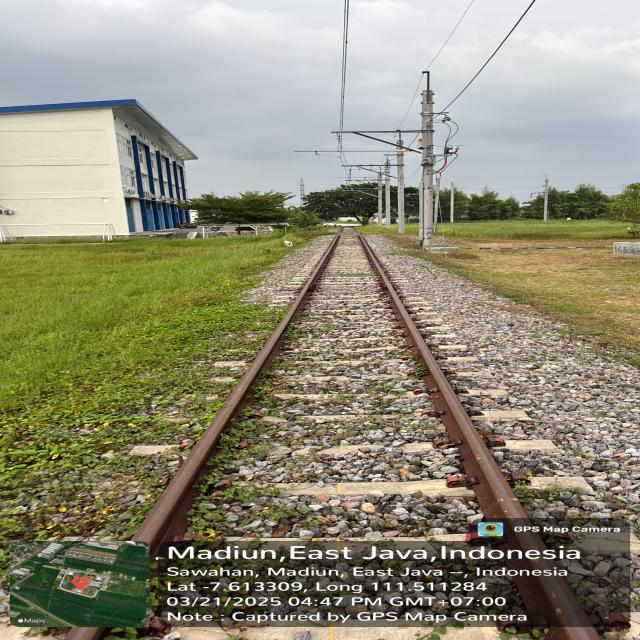rail-detection: (132, 235, 340, 554), (372, 260, 546, 552), (358, 235, 453, 399), (505, 558, 599, 640), (67, 629, 102, 640)
